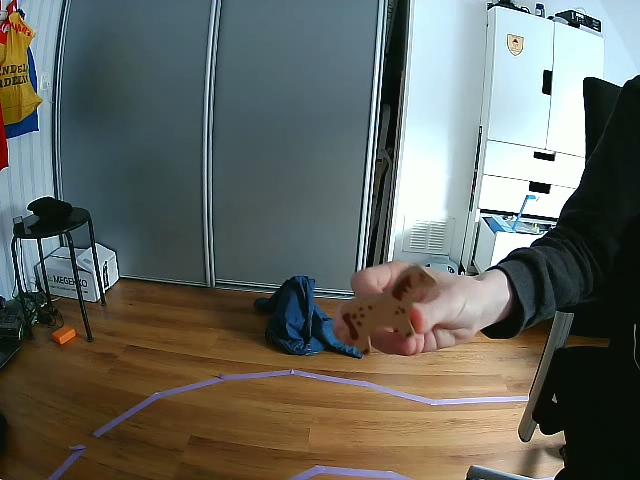paard: (343, 266, 437, 355)
